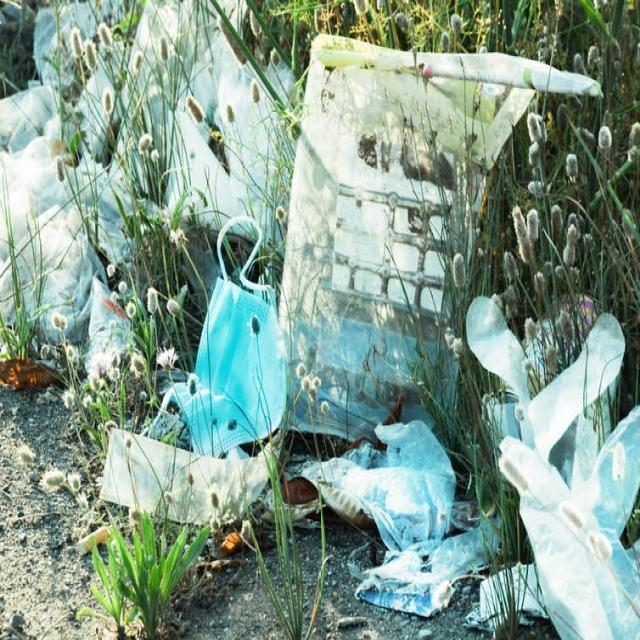non-organic waste: (160, 219, 292, 453)
